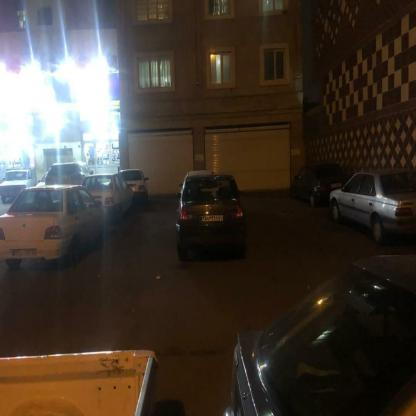Car: (0, 184, 103, 275), (172, 173, 252, 263), (326, 171, 416, 249), (84, 174, 134, 220), (290, 162, 339, 202), (117, 170, 153, 206), (0, 158, 32, 195)
